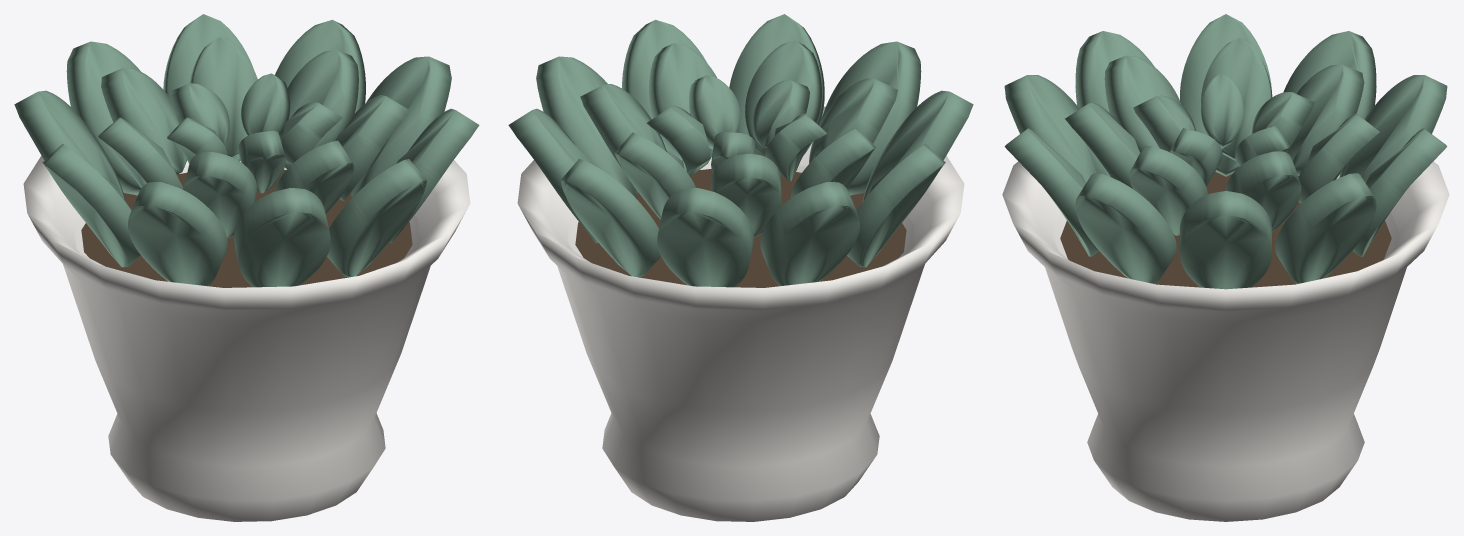
The model's file is PlantSucculent.fbx.
The picture shows the model from 3 angles, left to right: view 1: azimuth 30°, elevation 25°; view 2: azimuth 150°, elevation 25°; view 3: azimuth 270°, elevation 25°; orthographic projection.
Visible parts, largest first — view 1: SucculentFoliage, SucculentPot, SucculentSoil; view 2: SucculentFoliage, SucculentPot, SucculentSoil; view 3: SucculentFoliage, SucculentPot, SucculentSoil.
Part boxes in pixels (<box>): SucculentFoliage: <box>14,14,479,287</box>; SucculentPot: <box>23,156,470,521</box>; SucculentSoil: <box>81,169,412,287</box>; SucculentFoliage: <box>508,14,973,287</box>; SucculentPot: <box>517,106,964,521</box>; SucculentSoil: <box>575,169,906,287</box>; SucculentFoliage: <box>1004,14,1447,289</box>; SucculentPot: <box>1002,161,1449,521</box>; SucculentSoil: <box>1060,172,1391,287</box>.
Size of the model in its own units: 57.98 by 51.5 by 55.68.
